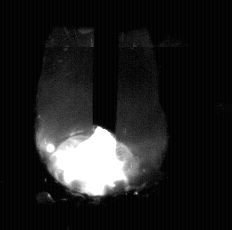arame: (93, 0, 118, 135)
poca: (35, 0, 168, 230)
